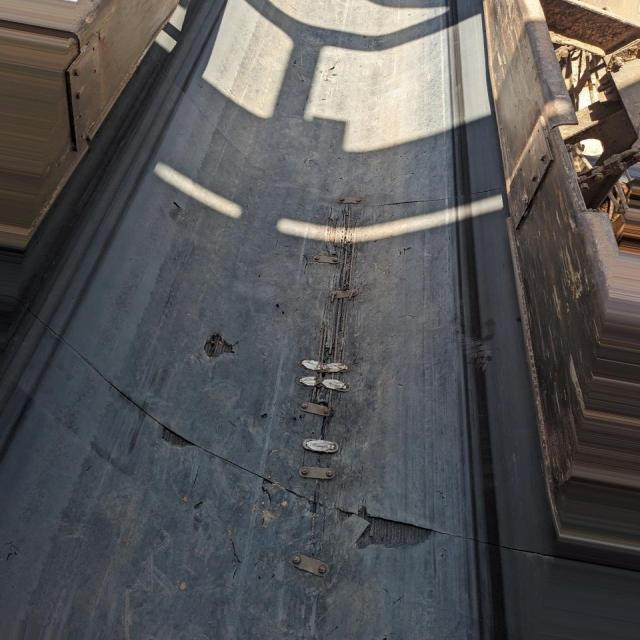Tear: (77, 337, 457, 561), (196, 329, 236, 363), (164, 193, 194, 226), (382, 195, 450, 208)
patch work: (277, 188, 385, 495), (272, 528, 335, 589)
